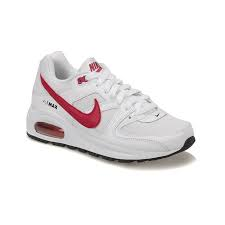nike: (41, 76, 102, 130)
